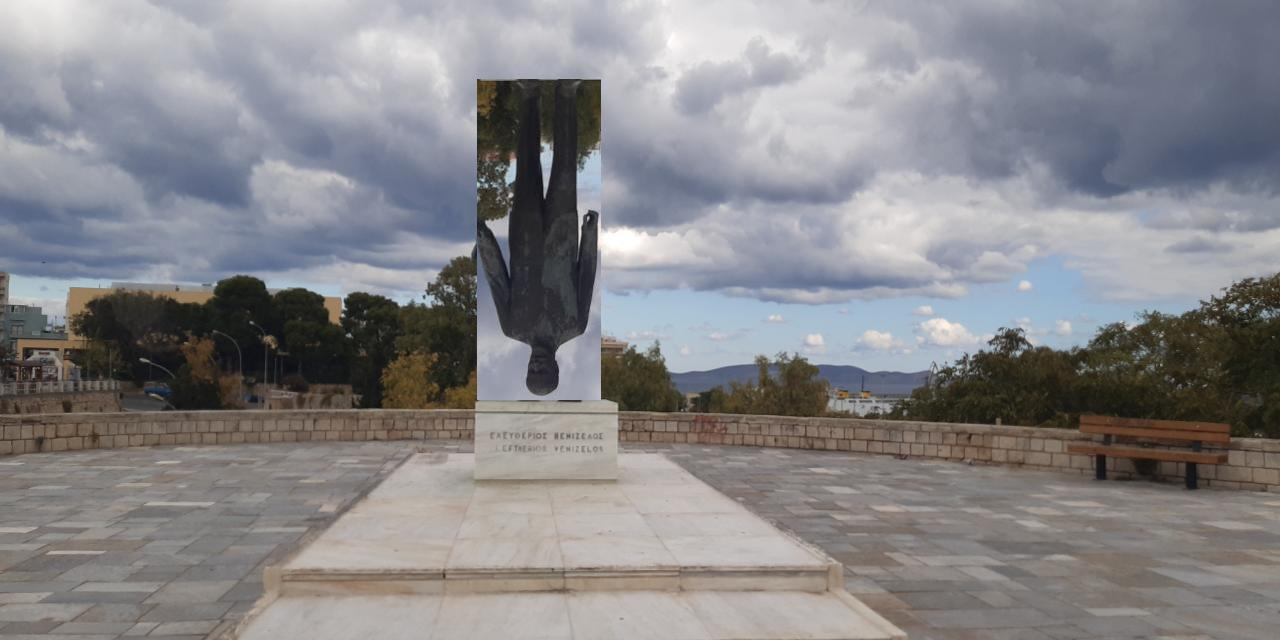Venizelos: (478, 80, 602, 401)
